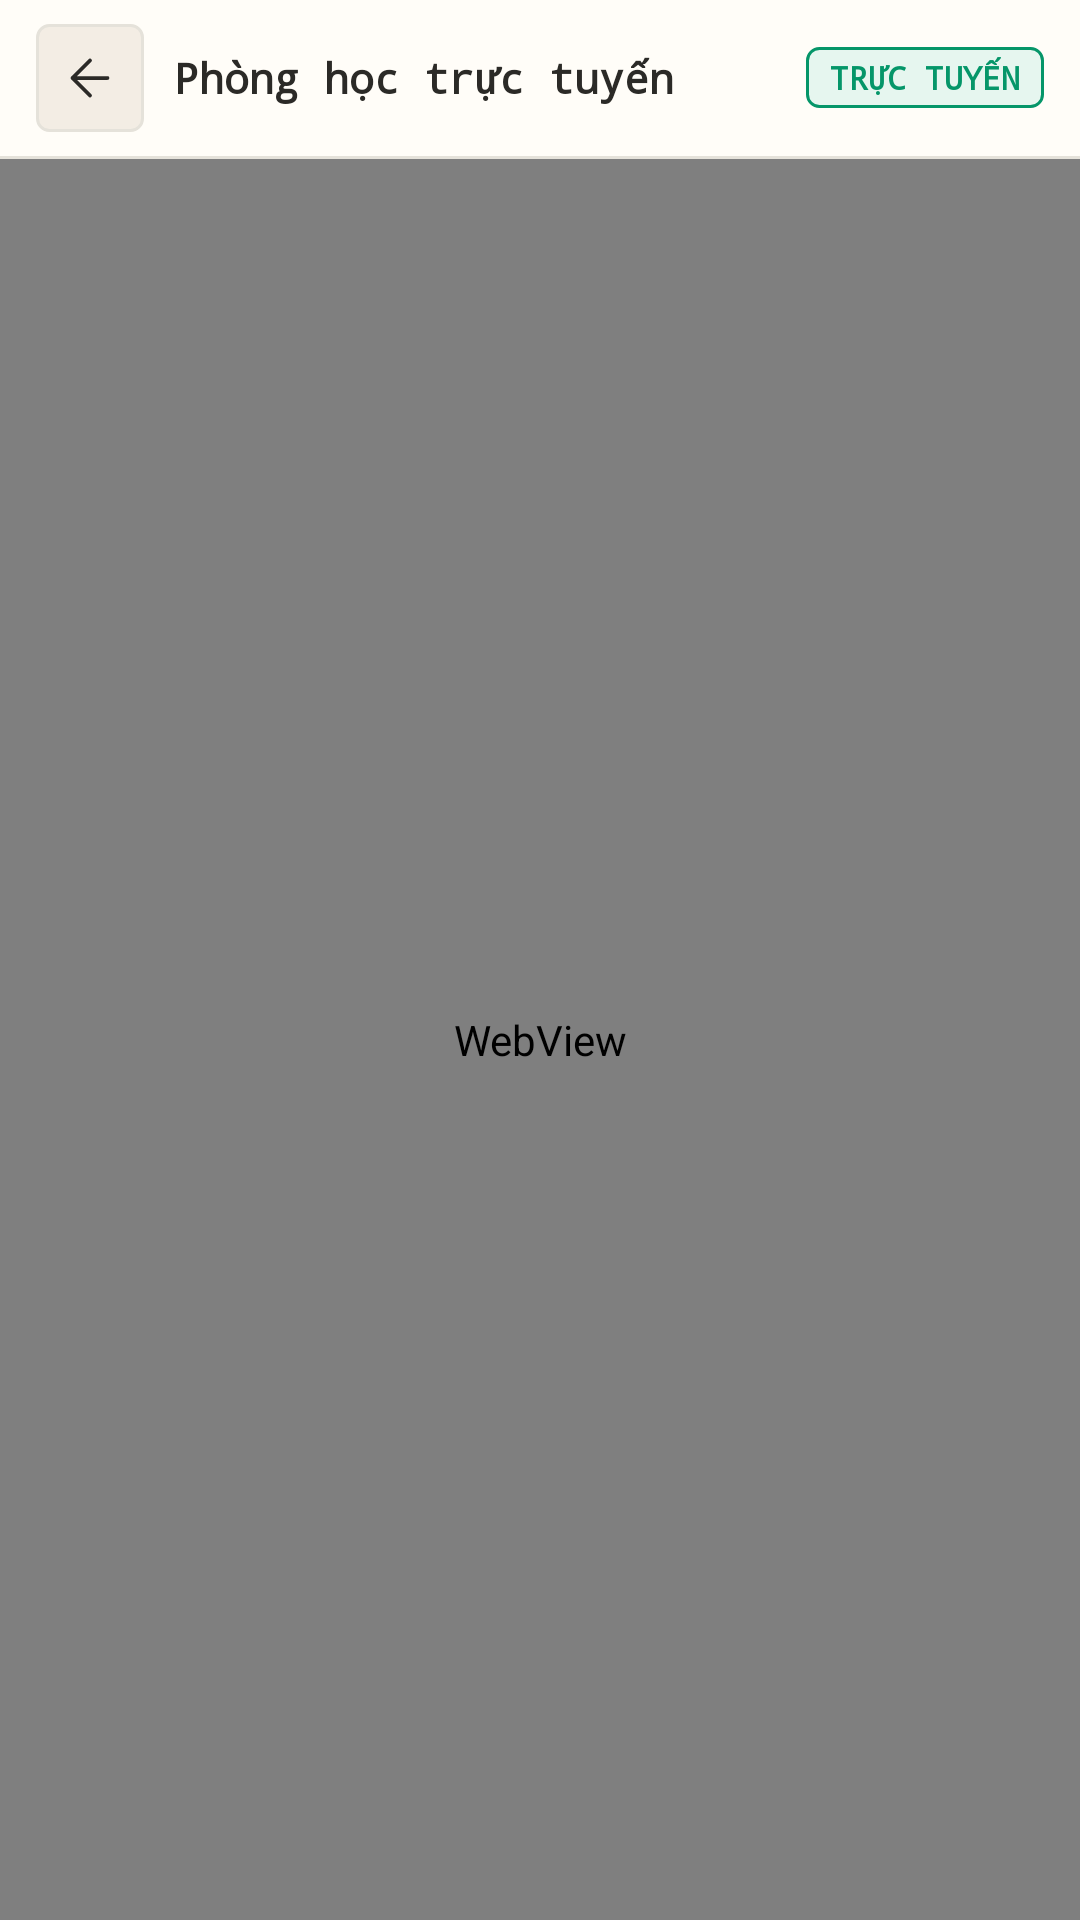

Locate icon controls on the screen. Image size 1080*1920, boxes as bbox(x1, y1, x2, y2).
Đóng phòng: bbox(36, 24, 144, 132)
